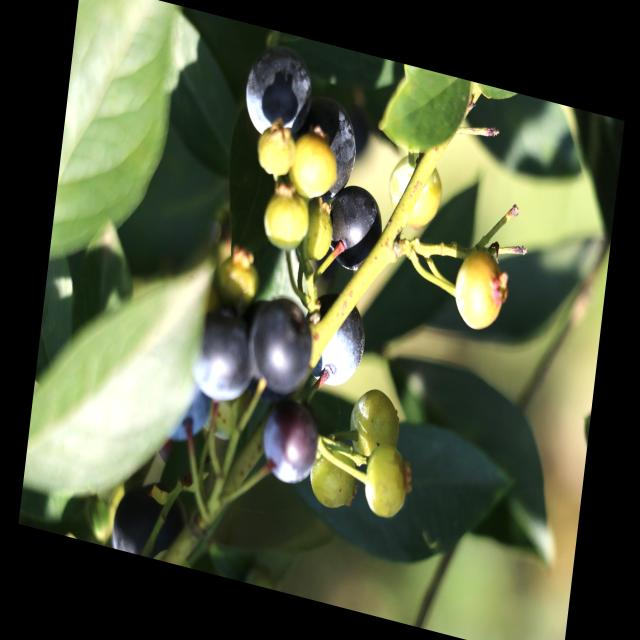blueberry: (238, 40, 322, 156), (186, 300, 265, 412), (296, 283, 372, 394), (248, 293, 320, 403), (298, 91, 364, 209), (317, 177, 391, 274), (255, 395, 325, 493)
blueberry-unripe: (384, 144, 447, 233), (346, 382, 405, 469), (452, 248, 508, 336), (360, 439, 412, 524), (306, 435, 360, 516), (288, 130, 342, 208), (262, 184, 313, 255), (256, 120, 300, 180), (216, 252, 263, 308)
